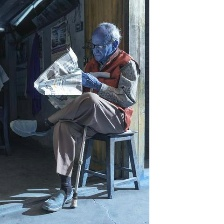news_paper: (31, 45, 90, 109)
